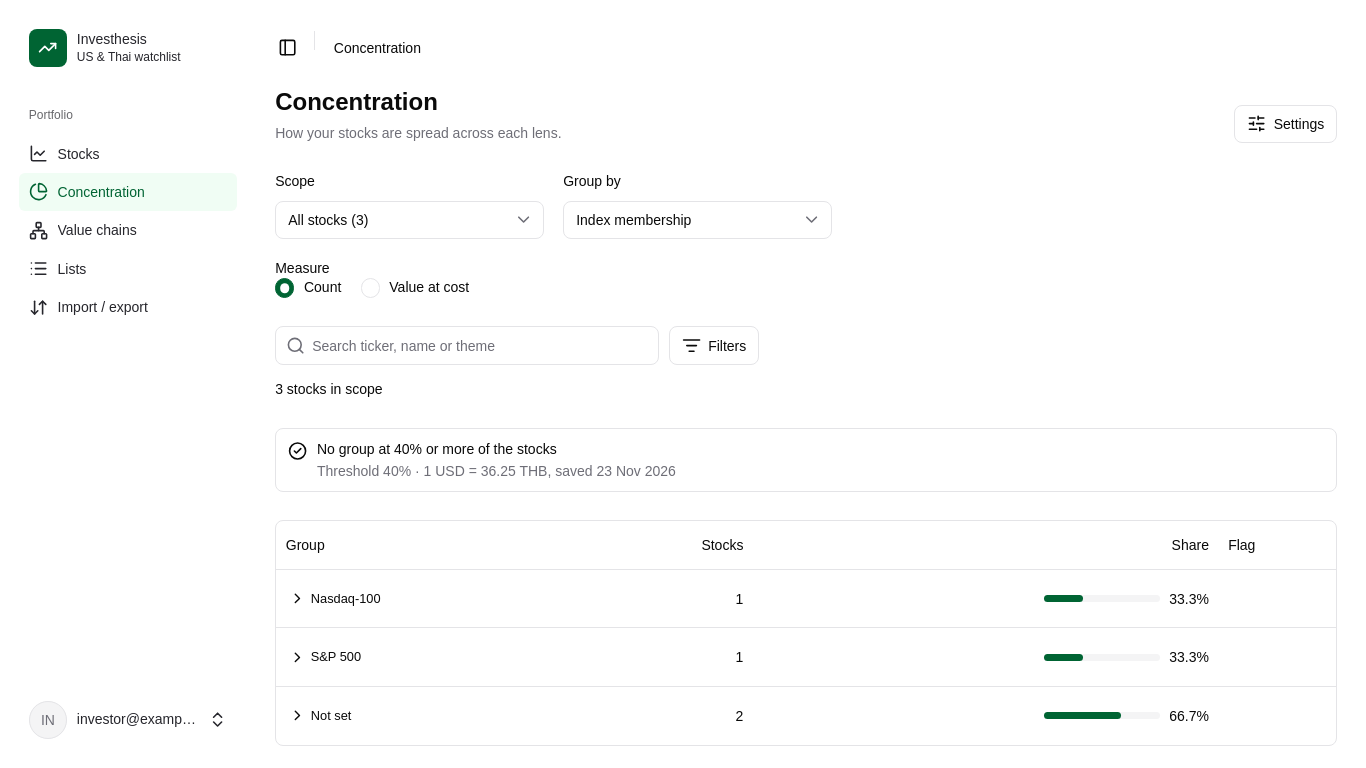
Test: concentration: multi-value lenses › TC-C-421: a stock with two index memberships appears in two sub-rows
Expected: the heading "Concentration" is shown, [275,88,438,115]
Click the button named "Show stocks in S&P 500": (325, 657) [276,638,374,676]
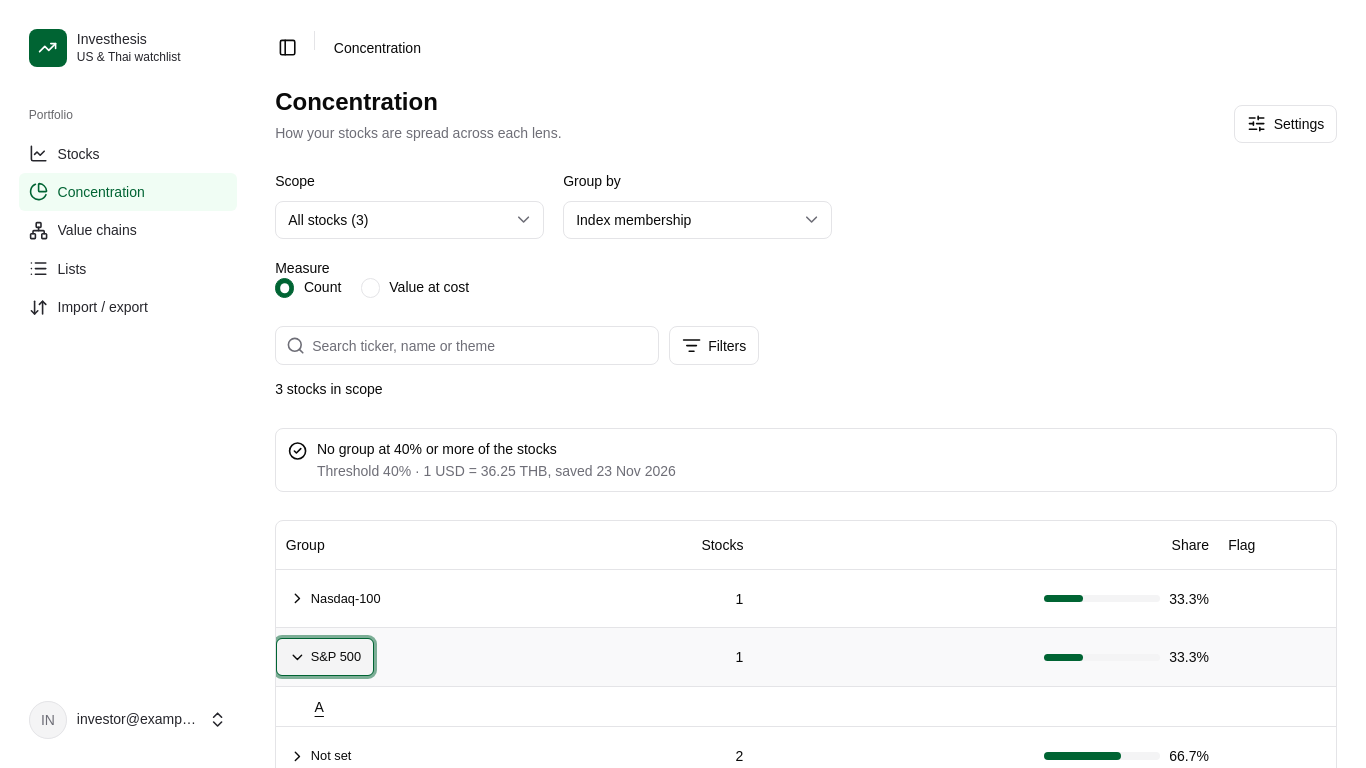
Click the button with aria-label "Show stocks in Nasdaq-100": (335, 599) [276,580,394,618]
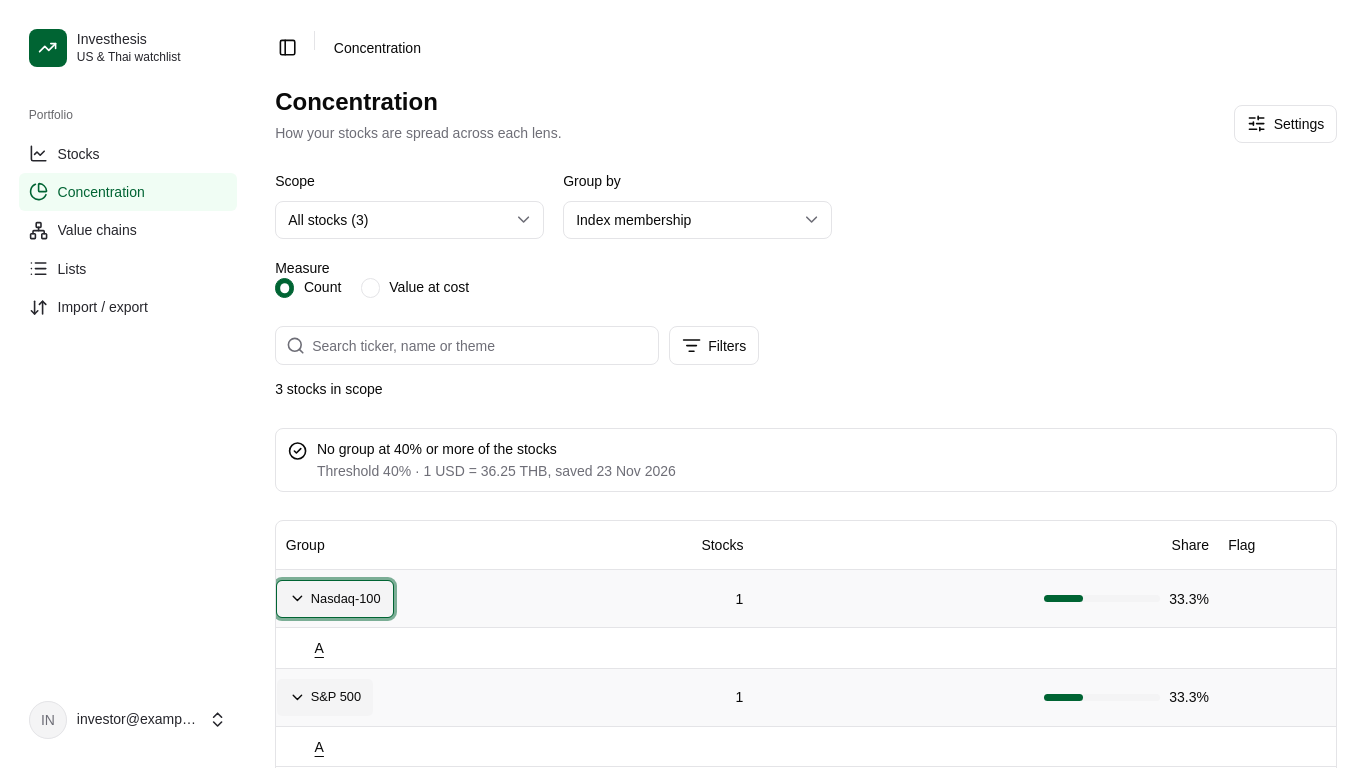
Expected: the 1st link "A" is shown, [315,640,324,656]
Expected: the number of links "A" is 2, [315,640,324,656]; [315,739,324,755]
